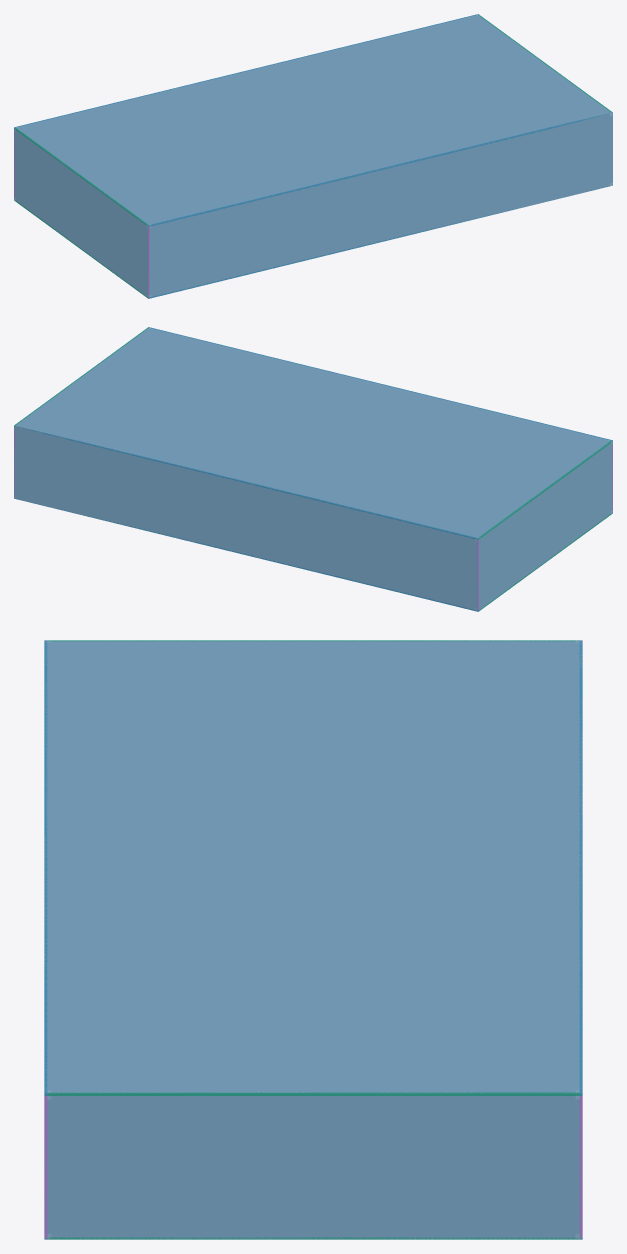
File: total-envelope-total-gpu-msi-geforce-gtx-1080-gaming-x-8g.glb
3 renders of one model, top to bottom at view 1: azimuth 30°, elevation 25°; view 2: azimuth 150°, elevation 25°; view 3: azimuth 270°, elevation 25°, orthographic. The views are drawn at different scales.
Visible parts, largest first — view 1: Published outer envelope — not a surface-accurate model, Length guide (×3), Height guide; view 2: Published outer envelope — not a surface-accurate model, Length guide (×3), Height guide; view 3: Published outer envelope — not a surface-accurate model, Height guide (×3), Length guide (×2).
Part boxes in pixels (x1,y1,x2,y2): Published outer envelope — not a surface-accurate model: (14, 15, 612, 297); Length guide (×3): (14, 14, 612, 298); Height guide: (14, 127, 148, 225); Published outer envelope — not a surface-accurate model: (14, 328, 612, 611); Length guide (×3): (15, 327, 612, 611); Height guide: (477, 440, 611, 539); Published outer envelope — not a surface-accurate model: (44, 640, 582, 1239); Height guide (×3): (45, 640, 581, 1239); Length guide (×2): (44, 640, 582, 1095).
Size of the model in its own units: 0.279 by 0.042 by 0.14.
